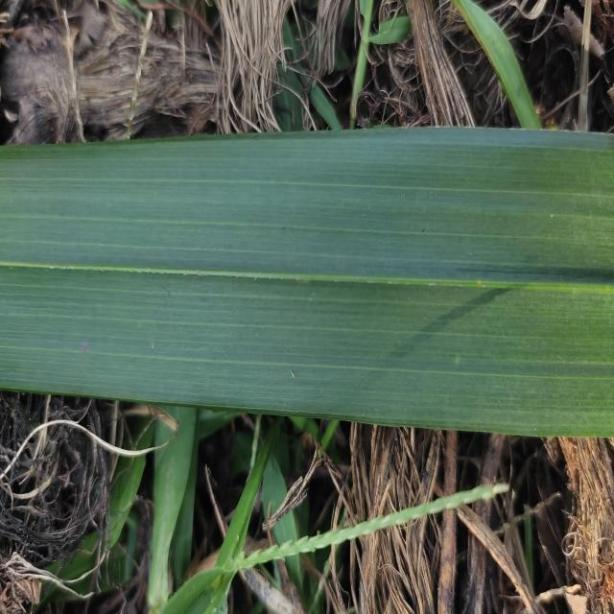Healthy: (0, 128, 614, 436)
